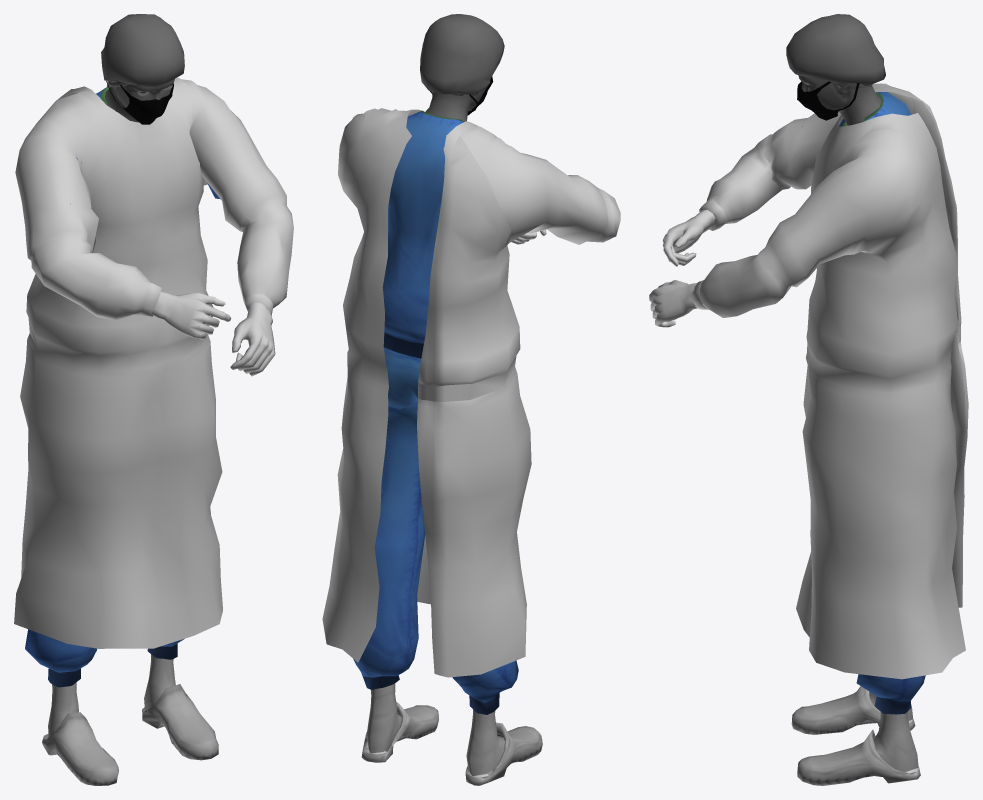
Rendered from clothError.fbx.
3 views of the same model, side by side, from view 1: azimuth 30°, elevation 25°; view 2: azimuth 150°, elevation 25°; view 3: azimuth 270°, elevation 25° (orthographic).
Visible parts, largest first — view 1: Surgeon_D; view 2: Surgeon_D; view 3: Surgeon_D.
Part boxes in pixels (x1,y1,x2,y2): Surgeon_D: (14,14,293,785); Surgeon_D: (322,14,620,785); Surgeon_D: (649,14,968,785).
Bounding box in the file's own units: 61.3 × 171 × 67.35.
